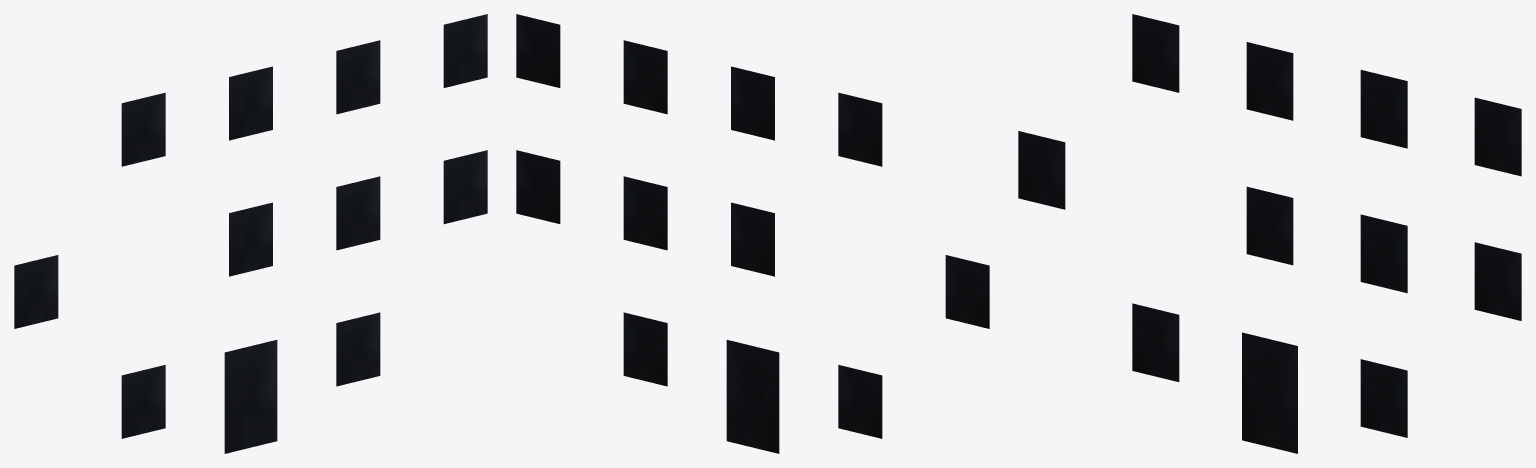
Rendered from Street_BlockR0_Glass.obj.
3 renders of one model, left to right at view 1: azimuth 30°, elevation 25°; view 2: azimuth 150°, elevation 25°; view 3: azimuth 330°, elevation 25°, orthographic. The views are drawn at different scales.
Size of the model in its own units: 11.47 by 8.7 by 0.
1 material, 1 textured.
